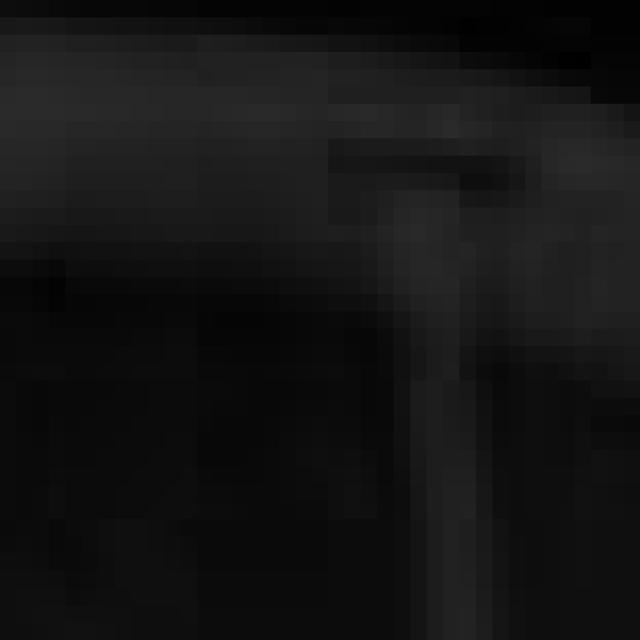fracture: (1, 2, 633, 640)
